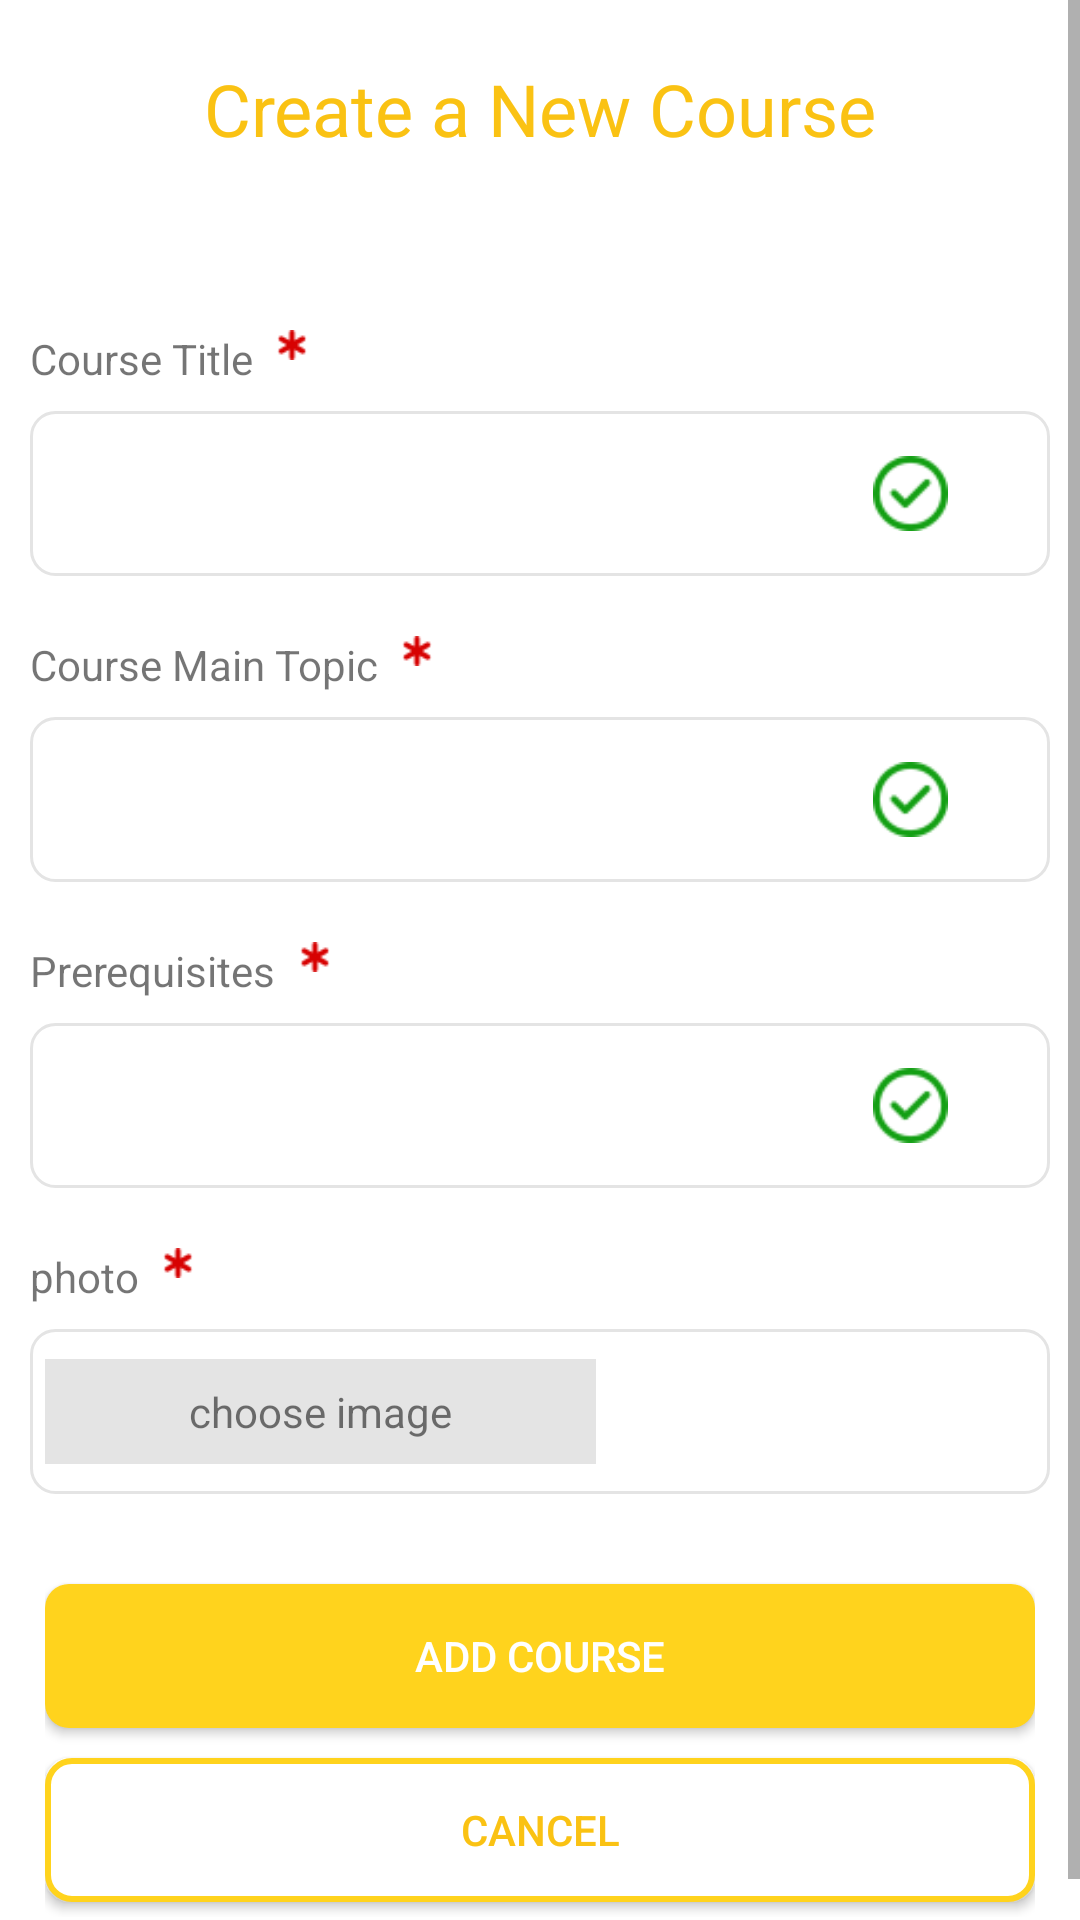

Icon bounding boxes for this 1080 x 1920 phone screenshot, format [x1=x1, y1=y1, x2=x2, y2=y2]:
required: [x1=278, y1=330, x2=306, y2=360], [x1=403, y1=636, x2=431, y2=666], [x1=301, y1=942, x2=329, y2=972], [x1=164, y1=1248, x2=192, y2=1278]
true: [x1=873, y1=456, x2=948, y2=531], [x1=873, y1=762, x2=948, y2=837], [x1=873, y1=1068, x2=948, y2=1143]
